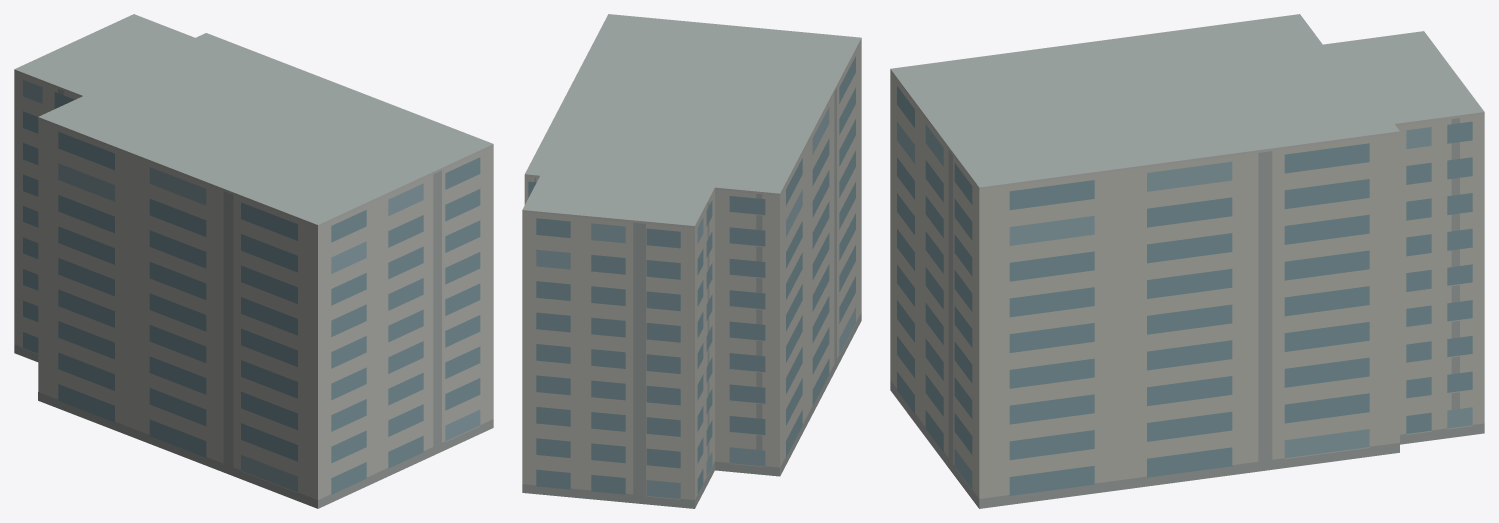
Rendered from residential-9b2ecba2-746a-4330-8150-25d6c5d37b33.glb.
3 views of the same model, side by side, from view 1: azimuth 30°, elevation 25°; view 2: azimuth 150°, elevation 25°; view 3: azimuth 270°, elevation 25° (orthographic). The views are drawn at different scales.
Parts seen in each view (by area): view 1: residential-9b2ecba2-746a-4330-8150-25d6c5d37b33.tmp; view 2: residential-9b2ecba2-746a-4330-8150-25d6c5d37b33.tmp; view 3: residential-9b2ecba2-746a-4330-8150-25d6c5d37b33.tmp.
Boxes of the visible parts, x1,y1,x2,y2 form: residential-9b2ecba2-746a-4330-8150-25d6c5d37b33.tmp: (14, 14, 493, 508); residential-9b2ecba2-746a-4330-8150-25d6c5d37b33.tmp: (522, 14, 861, 508); residential-9b2ecba2-746a-4330-8150-25d6c5d37b33.tmp: (890, 14, 1484, 508).
Bounding box in the file's own units: 33.58 × 29 × 48.6.
